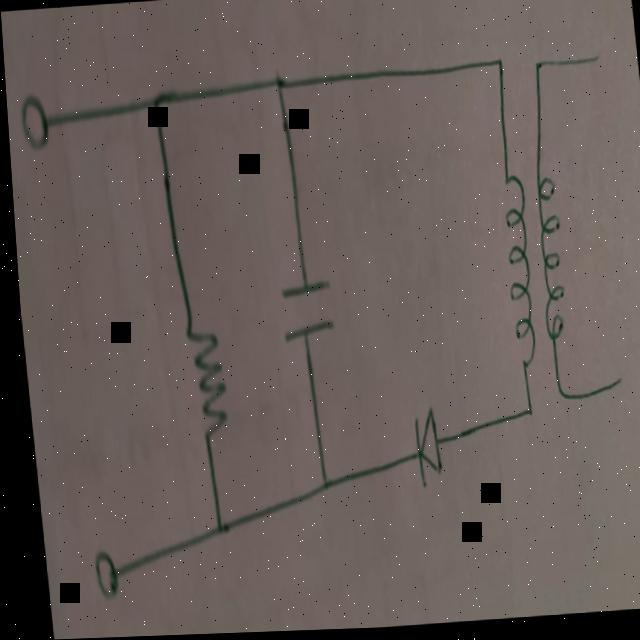capacitor: (276, 277, 330, 346)
diode: (405, 412, 439, 496)
junction: (548, 384, 564, 414), (312, 475, 327, 501), (204, 518, 222, 539), (270, 76, 284, 102), (492, 54, 505, 81), (530, 57, 543, 83), (147, 95, 162, 116), (517, 405, 531, 426)
resistor: (181, 327, 225, 445)
terminal: (19, 98, 50, 153), (85, 551, 116, 604), (607, 374, 620, 396), (589, 55, 601, 73)
transformer: (495, 168, 569, 377)
